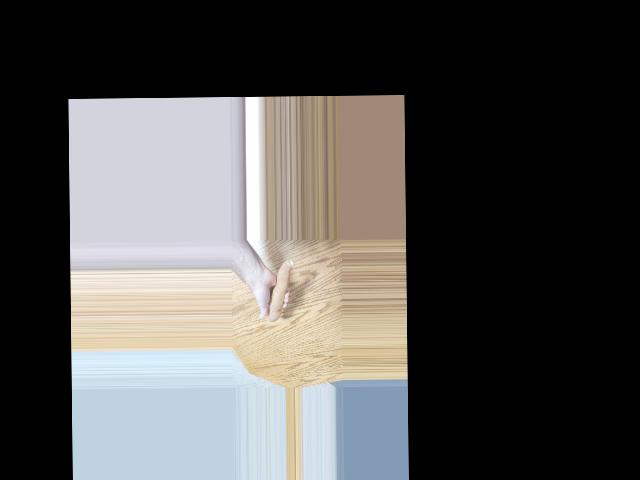sweet_potato: (267, 259, 284, 323)
